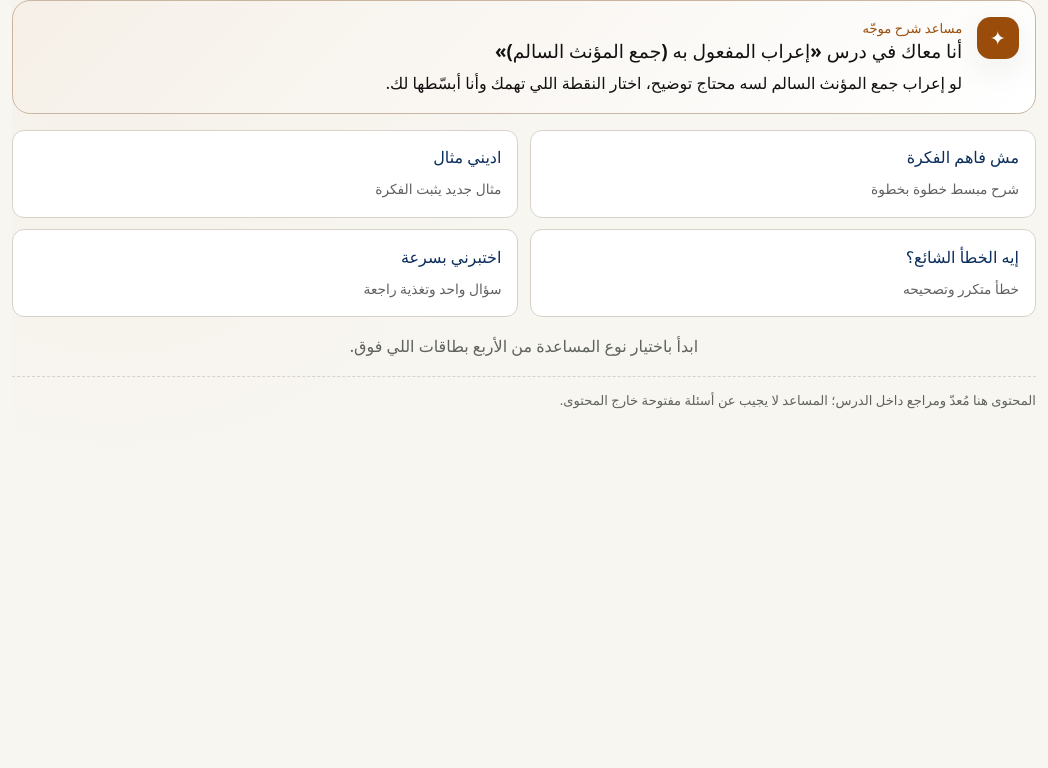
Test: تعميم خاصية اسألني وأنا هشرح لك على جميع دروس التطبيق › تستجيب الأنماط الأربعة للمساعد الموجه بصورة تفاعلية كاملة
# مش فاهم الفكرة
Click the button "مش فاهم الفكرة شرح مبسط خطوة بخطوة" at (963, 157), box [530,130,1036,218]
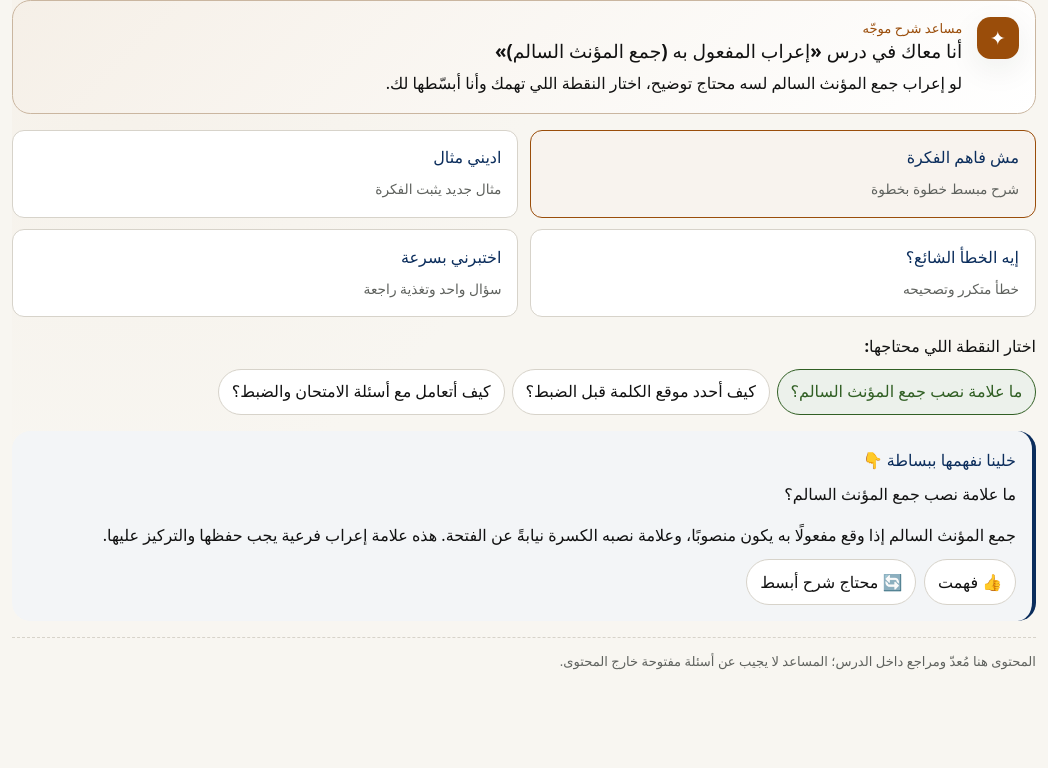
Check: the text "خلينا نفهمها ببساطة 👇" is shown, box [863,449,1016,471]
Check: the button "👍 فهمت" is shown
Click the button "👍 فهمت" at (970, 582), box [924,559,1016,605]
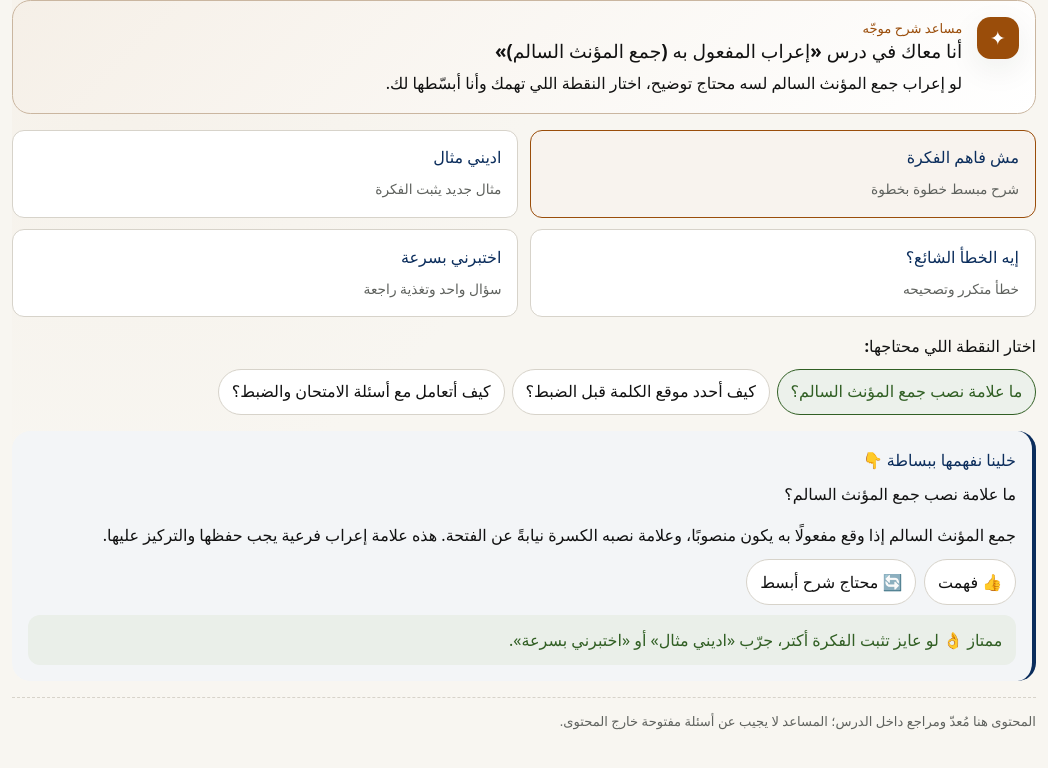
Check: the text "ممتاز 👌 لو عايز تثبت الفكرة أكتر" is shown, box [509,629,1002,651]
# اديني مثال
Click the button "اديني مثال مثال جديد يثبت الفكرة" at (467, 157), box [12,130,518,218]
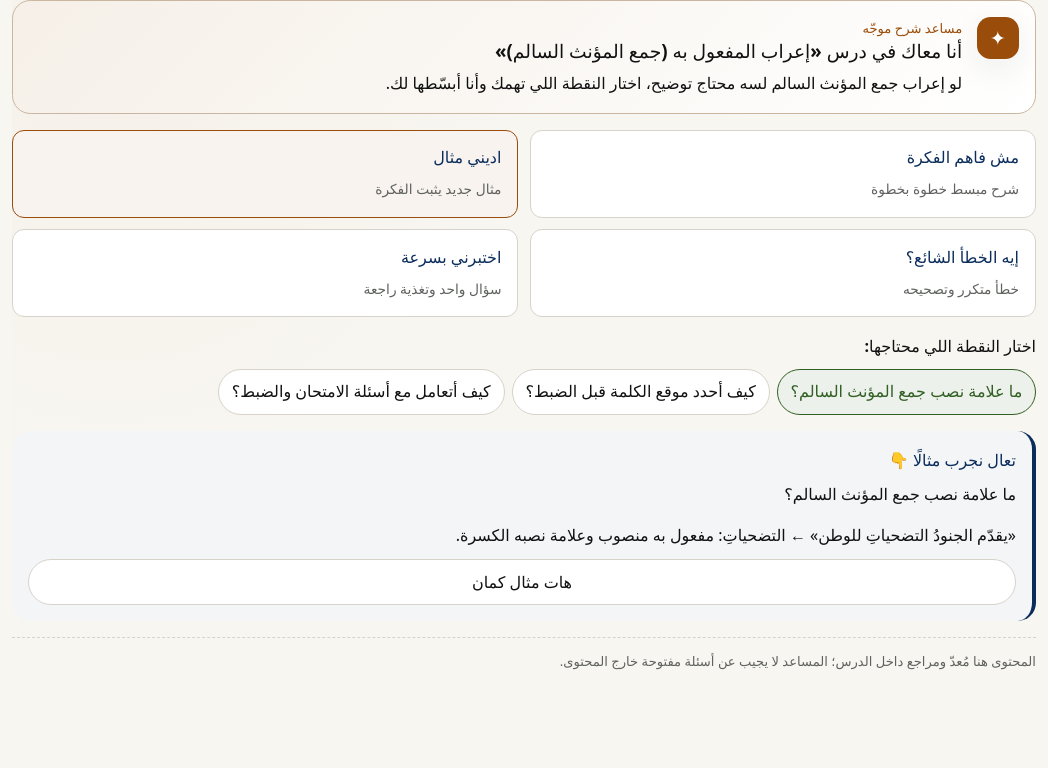
Check: the text "تعال نجرب مثالًا 👇" is shown, box [889,449,1016,471]
# إيه الخطأ الشائع؟
Click the button "إيه الخطأ الشائع؟ خطأ متكرر وتصحيحه" at (962, 257), box [530,229,1036,317]
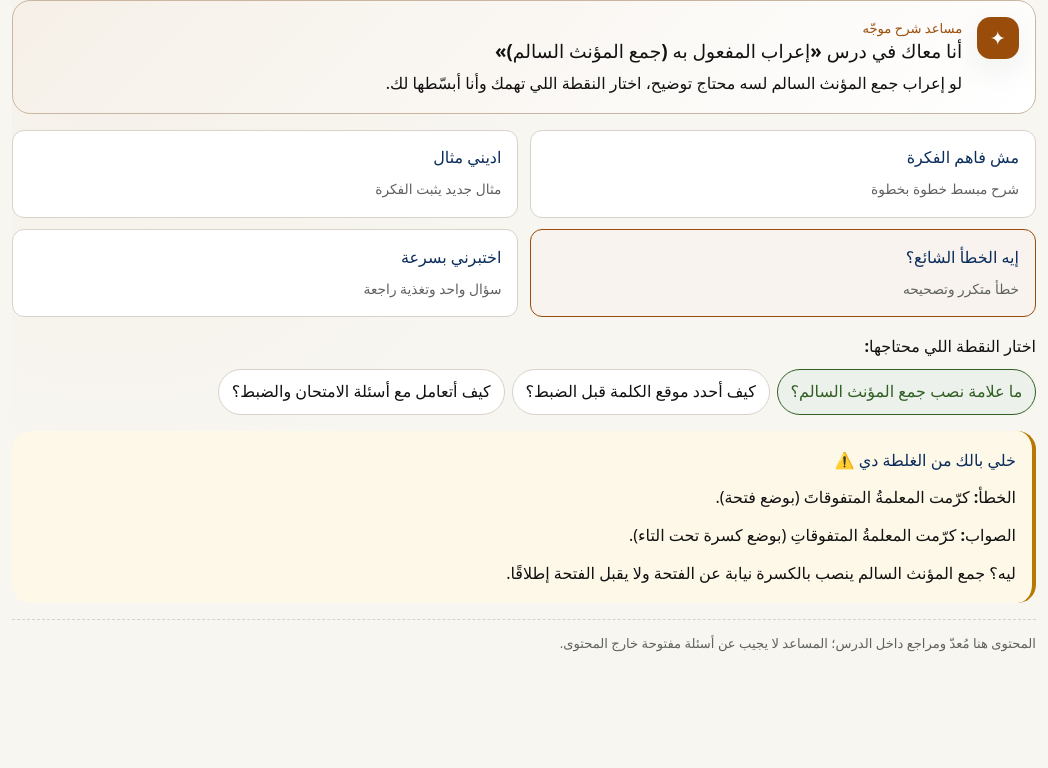
Check: the text "خلي بالك من الغلطة دي ⚠️" is shown, box [835,449,1016,471]
Check: the text "الخطأ:" is shown, box [974,486,1016,508]
Check: the text "الصواب:" is shown, box [960,524,1016,546]
# اختبرني بسرعة
Click the button "اختبرني بسرعة سؤال واحد وتغذية راجعة" at (451, 257), box [12,229,518,317]
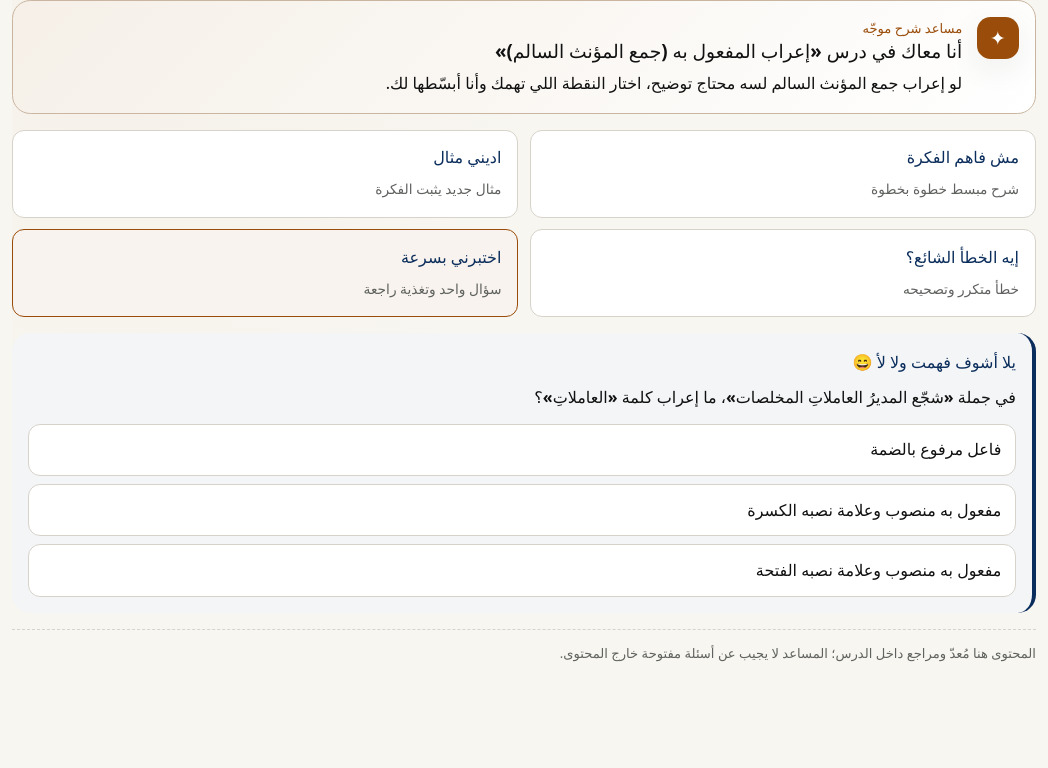
Check: the text "يلا أشوف فهمت ولا لأ 😄" is shown, box [853,351,1016,373]
Click the button "مفعول به منصوب وعلامة نصبه الكسرة" at (874, 510), box [28,484,1016,536]
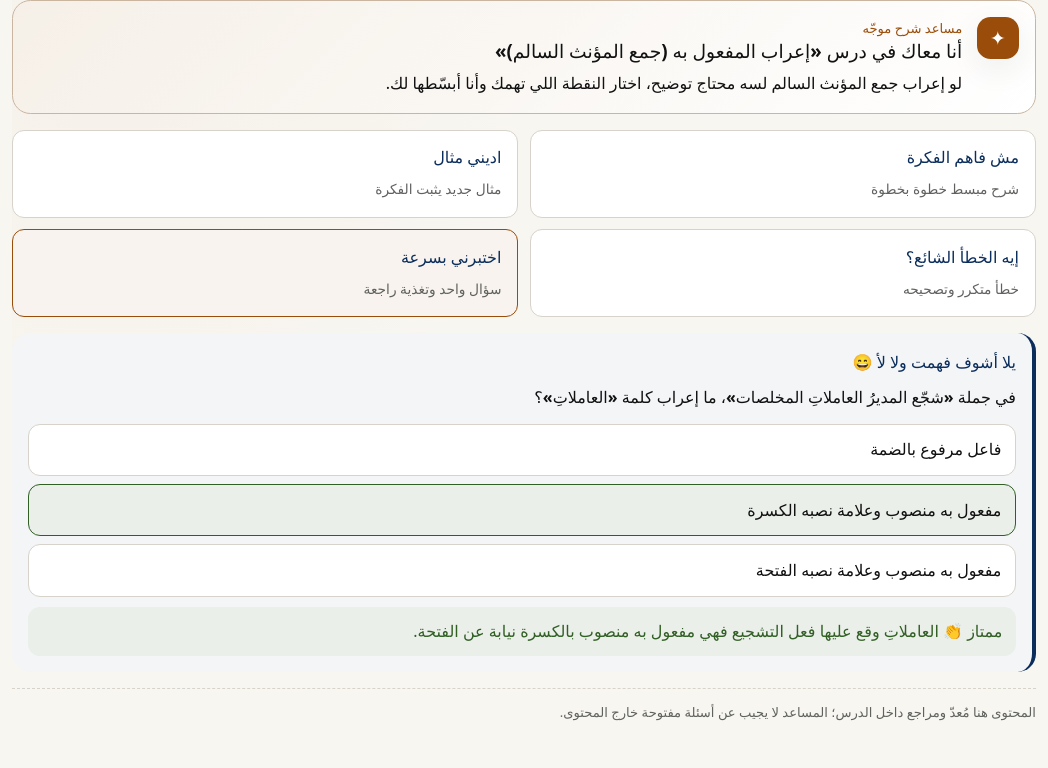
Check: the text "ممتاز 👏 العاملاتِ وقع عليها فعل التشجيع فهي مفعول به منصوب بالكسرة نيابة عن الفتحة." is shown, box [413,620,1002,642]
